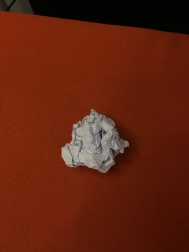paper_white: (46, 98, 139, 183)
